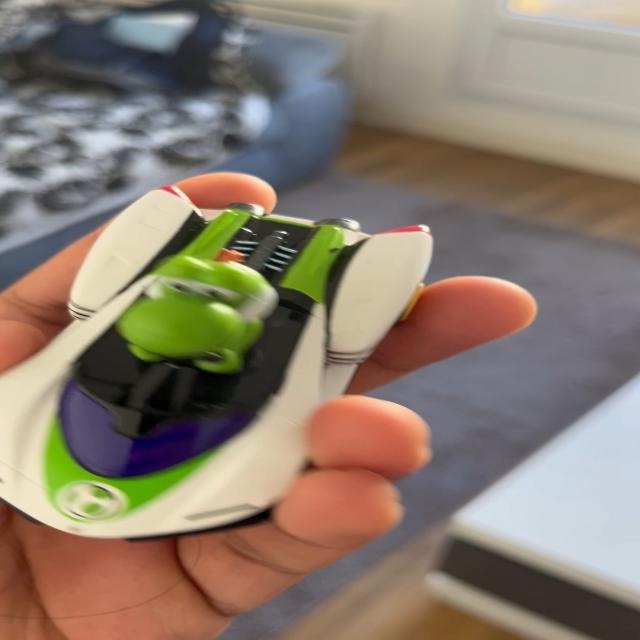yoshi: (5, 161, 453, 560)
